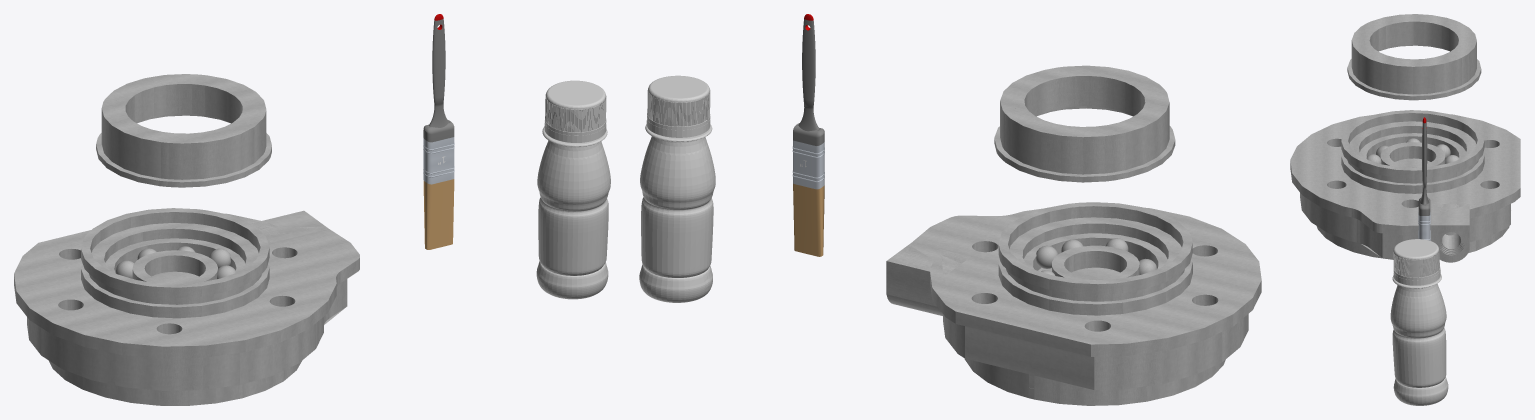
3 views of the same model, side by side, from view 1: azimuth 30°, elevation 25°; view 2: azimuth 150°, elevation 25°; view 3: azimuth 270°, elevation 25° (orthographic). The views are drawn at different scales.
Parts seen in each view (by area): view 1: 1, 1.001, bottle3, Paint+Brush+2; view 2: 1, 1.001, bottle3, Paint+Brush+2; view 3: 1, 1.001, bottle3, Paint+Brush+2.
Boxes of the visible parts, x1,y1,x2,y2 form: 1: [14, 208, 359, 405]; 1.001: [96, 74, 271, 187]; bottle3: [536, 80, 610, 299]; Paint+Brush+2: [423, 14, 454, 249]; 1: [886, 202, 1261, 405]; 1.001: [994, 65, 1175, 182]; bottle3: [639, 75, 715, 302]; Paint+Brush+2: [792, 14, 824, 256]; 1: [1290, 110, 1520, 262]; 1.001: [1347, 14, 1481, 100]; bottle3: [1390, 239, 1448, 405]; Paint+Brush+2: [1418, 117, 1430, 240].
Bounding box in the file's own units: 660 × 333 × 301.
8 materials, 3 textured.
